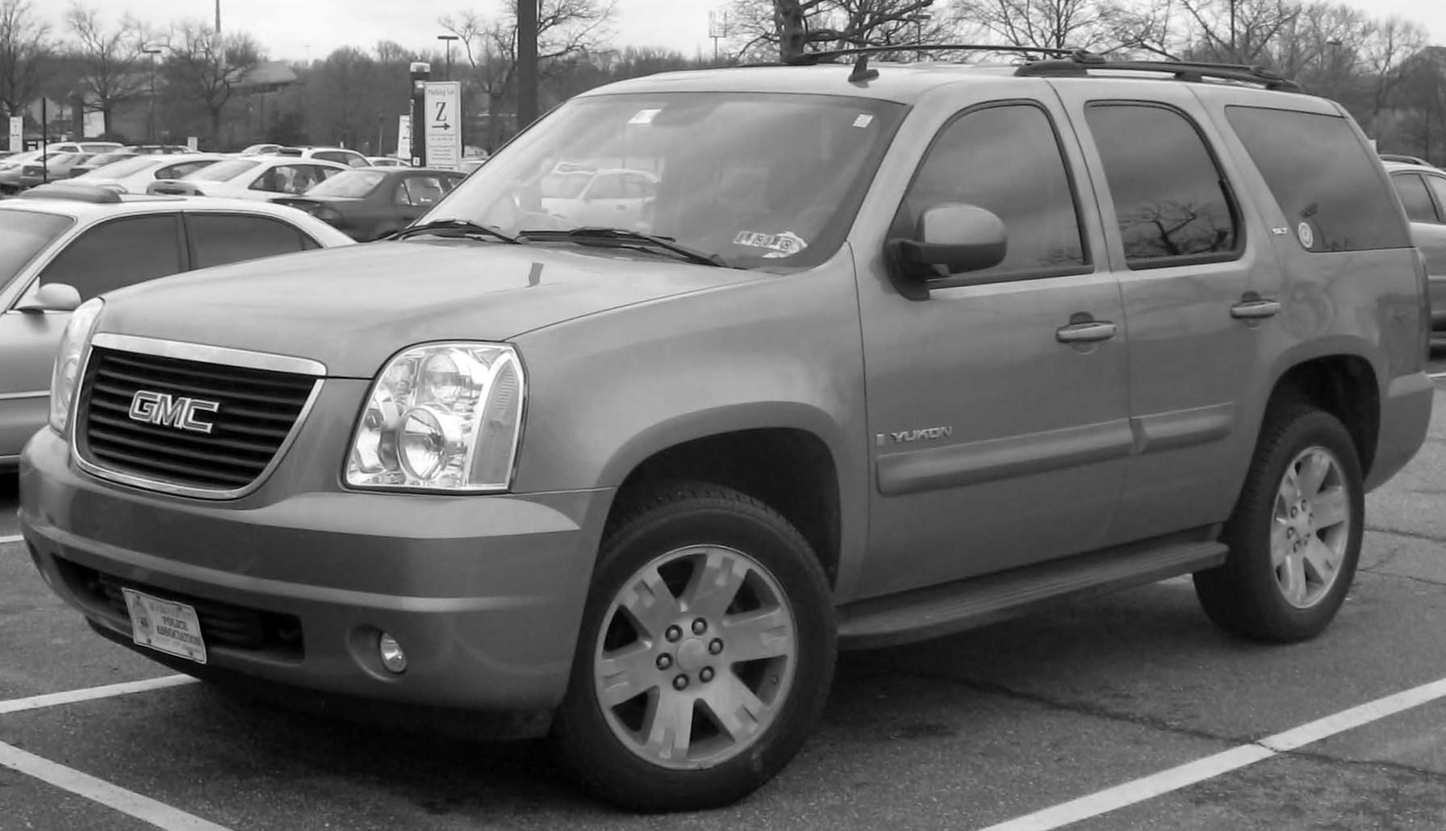car: (18, 43, 1431, 817)
